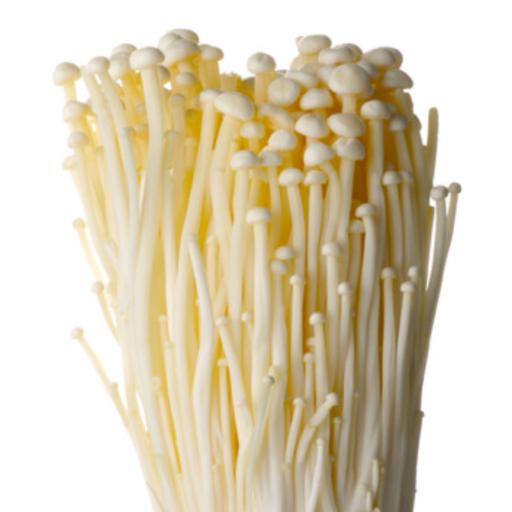Enoki Mushroom: (45, 22, 465, 512)
